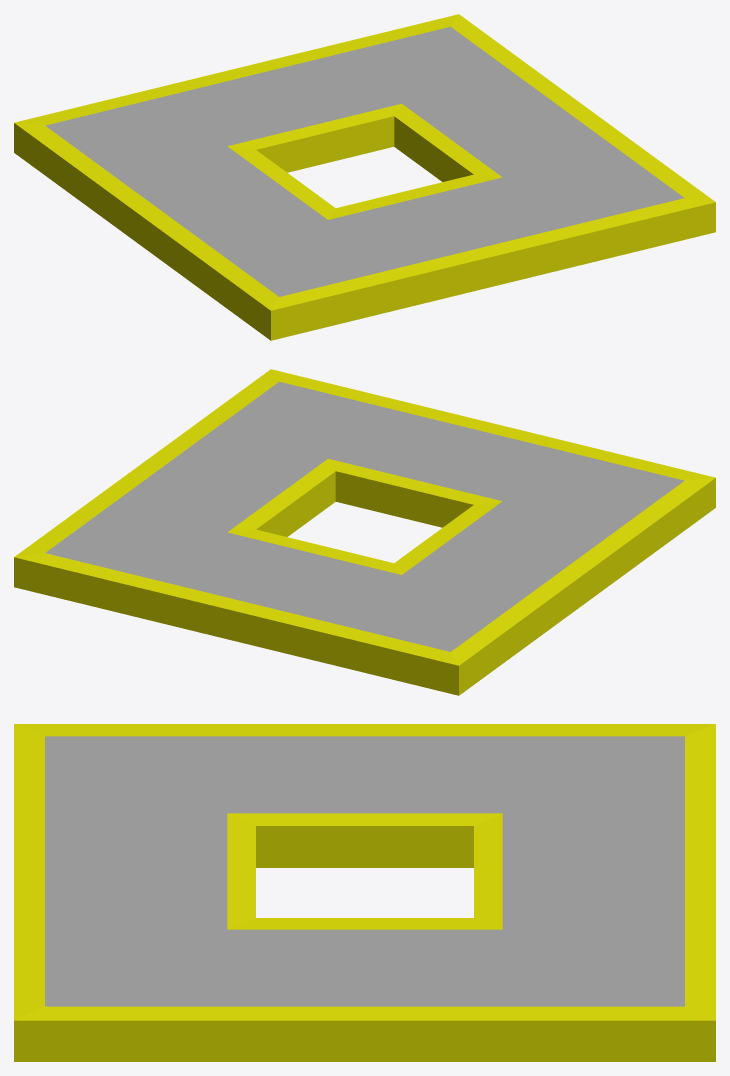
File: Roof3BLOD2.fbx
3 renders of one model, top to bottom at view 1: azimuth 30°, elevation 25°; view 2: azimuth 150°, elevation 25°; view 3: azimuth 270°, elevation 25°, orthographic. The views are drawn at different scales.
Parts seen in each view (by area): view 1: Roof3B_LOD2; view 2: Roof3B_LOD2; view 3: Roof3B_LOD2.
Boxes of the visible parts, x1=… form: Roof3B_LOD2: x1=14, y1=14, x2=715, y2=340; Roof3B_LOD2: x1=14, y1=369, x2=715, y2=695; Roof3B_LOD2: x1=14, y1=724, x2=715, y2=1061.
Bounding box in the file's own units: 505 × 34.56 × 505.
